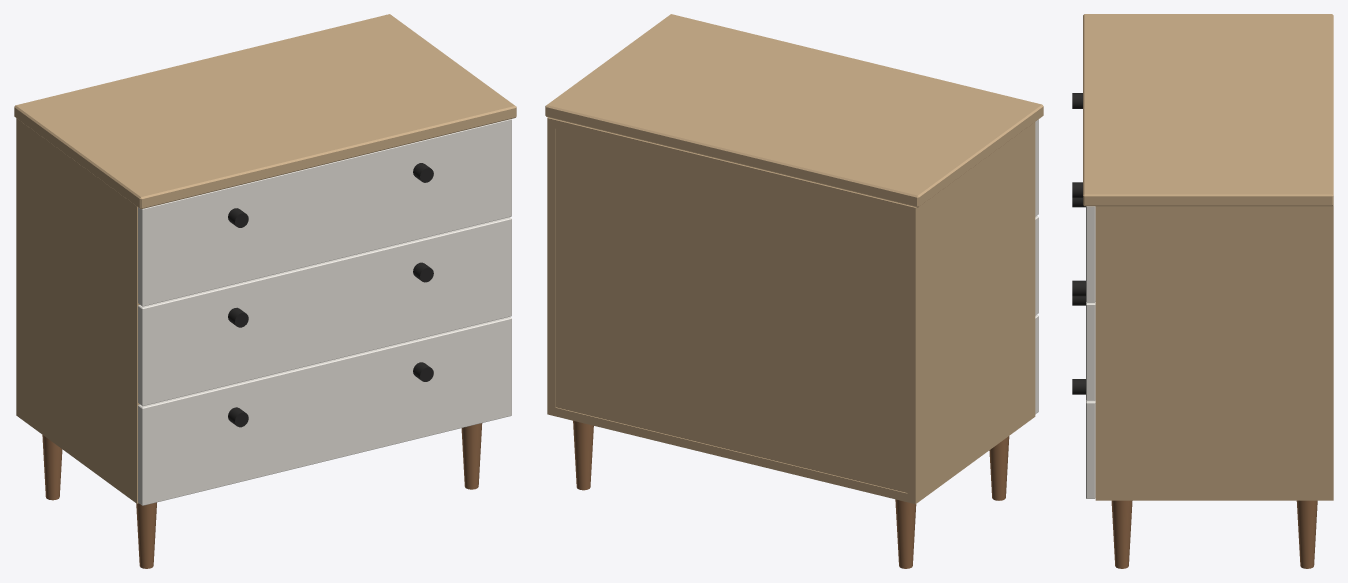
File: 08_komoda_80_3sz.glb
3 renders of one model, left to right at view 1: azimuth 30°, elevation 25°; view 2: azimuth 150°, elevation 25°; view 3: azimuth 270°, elevation 25°, orthographic.
Visible parts, largest first — view 1: Wierzch, Front_szuflada_2, Front_szuflada_3, Korpus, Front_szuflada_1, Nogi, Uchwyty; view 2: Korpus, Wierzch, Nogi; view 3: Korpus, Wierzch, Nogi, Uchwyty, Front_szuflada_2, Front_szuflada_3, Front_szuflada_1.
Part boxes in pixels (x1,y1,x2,y2): Wierzch: (14, 14, 516, 209); Front_szuflada_2: (138, 217, 511, 406); Front_szuflada_3: (138, 316, 511, 505); Korpus: (16, 118, 139, 503); Front_szuflada_1: (138, 119, 511, 306); Nogi: (42, 423, 482, 568); Uchwyty: (228, 163, 433, 427); Korpus: (547, 117, 1035, 504); Wierzch: (545, 14, 1043, 207); Nogi: (573, 420, 1009, 568); Korpus: (1095, 205, 1333, 500); Wierzch: (1083, 14, 1333, 206); Nogi: (1111, 500, 1317, 568); Uchwyty: (1072, 93, 1085, 394); Front_szuflada_2: (1086, 302, 1095, 400); Front_szuflada_3: (1086, 400, 1095, 498); Front_szuflada_1: (1086, 206, 1095, 302).
Size of the model in its own units: 0.812 by 0.8 by 0.494.
